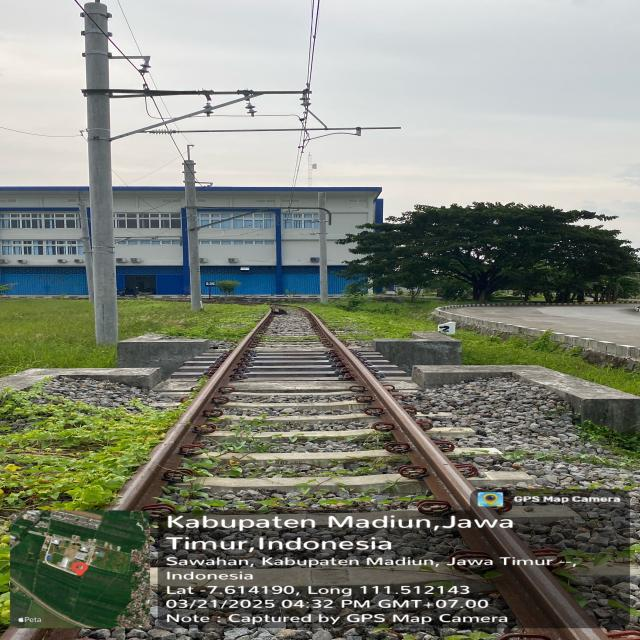rail-detection: (300, 308, 606, 640), (110, 312, 271, 510)
